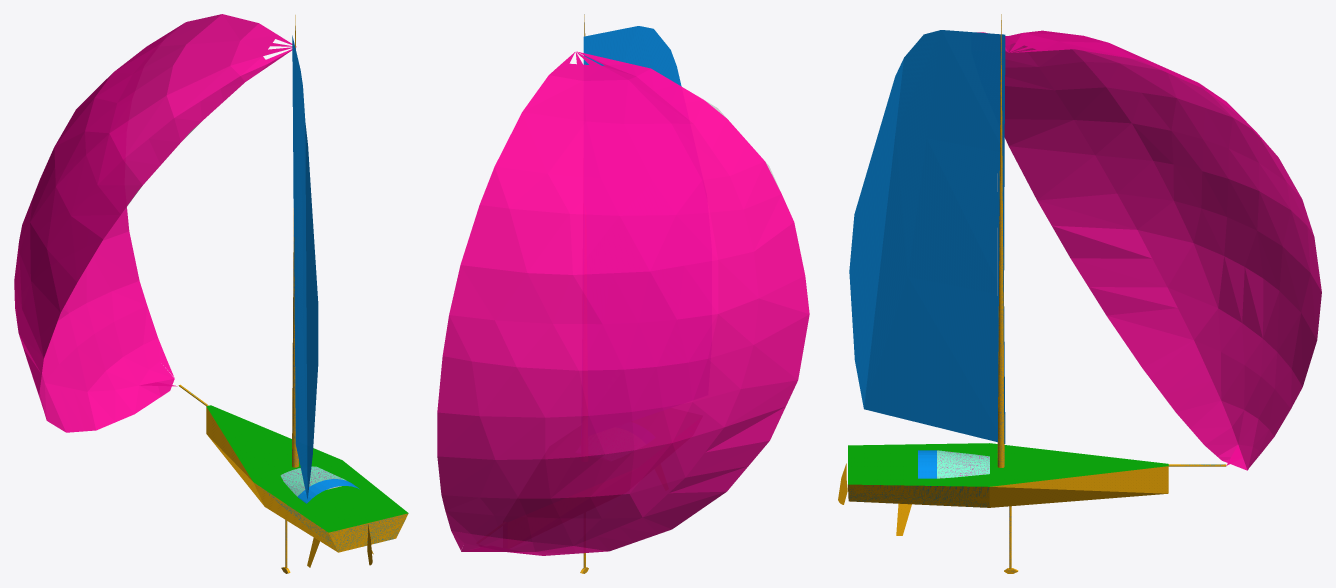
The model's file is genak_tribord_monocoque.dae.
The picture shows the model from 3 angles, left to right: view 1: azimuth 30°, elevation 25°; view 2: azimuth 150°, elevation 25°; view 3: azimuth 270°, elevation 25°; orthographic projection.
Parts seen in each view (by area): view 1: SketchUp (×8); view 2: SketchUp (×2); view 3: SketchUp (×7).
Part boxes in pixels (box(x1,y1,x2,y2)): SketchUp (×8): box(14, 14, 408, 552); SketchUp (×2): box(437, 26, 809, 555); SketchUp (×7): box(848, 14, 1321, 507).
Size of the model in its own units: 70308 by 106858 by 136820.
